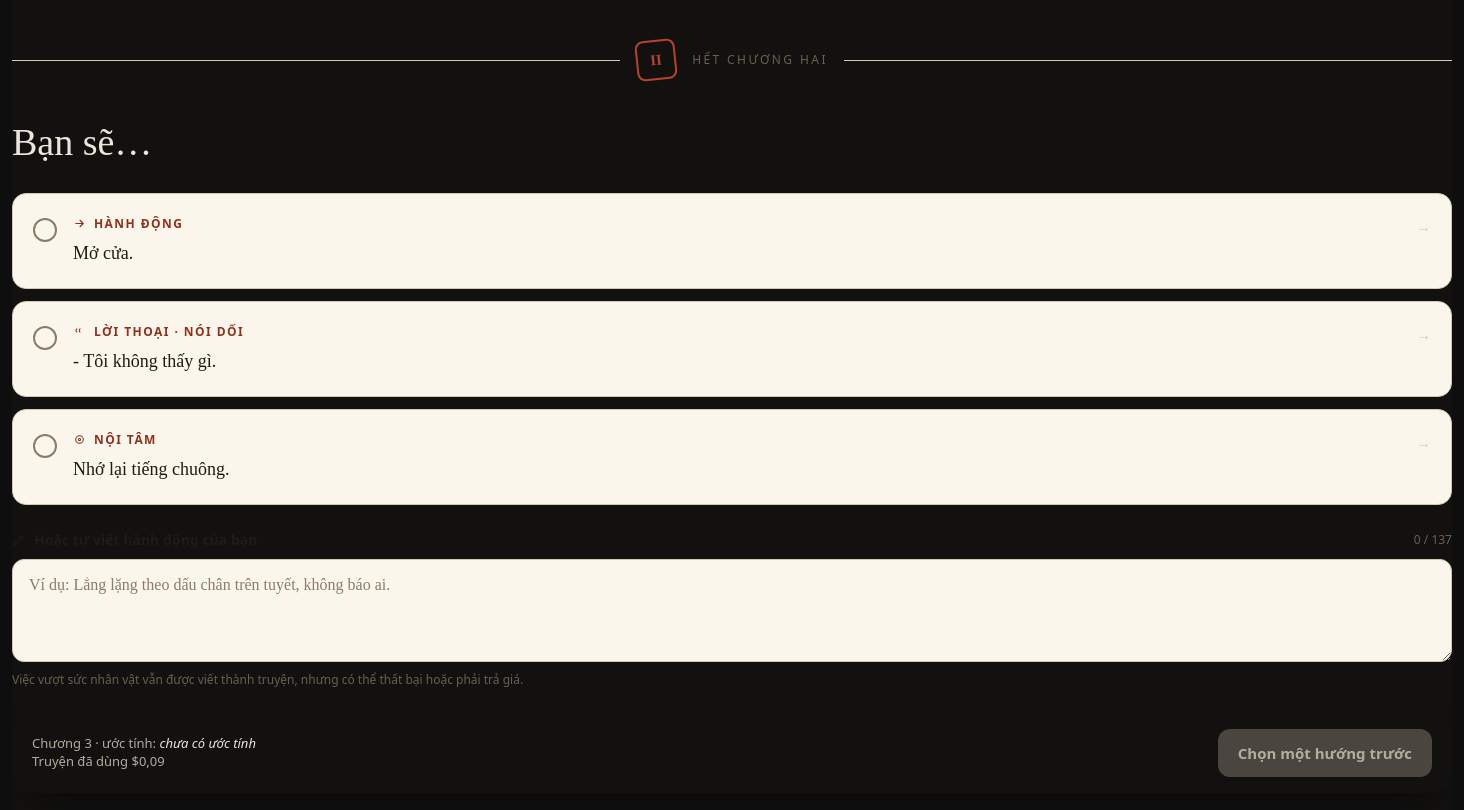
Test case: giới hạn và trần đến từ /config/public, không tự đặt số › ô tự viết đếm theo custom_action_max_chars của config
Check: the text "0 / 137" is shown, box [1414,530,1452,550]
Type "Tôi chạy" into the text box labelled "Hoặc tự viết hành động của bạn". click: (732, 610)
box: [12,559,1452,662]
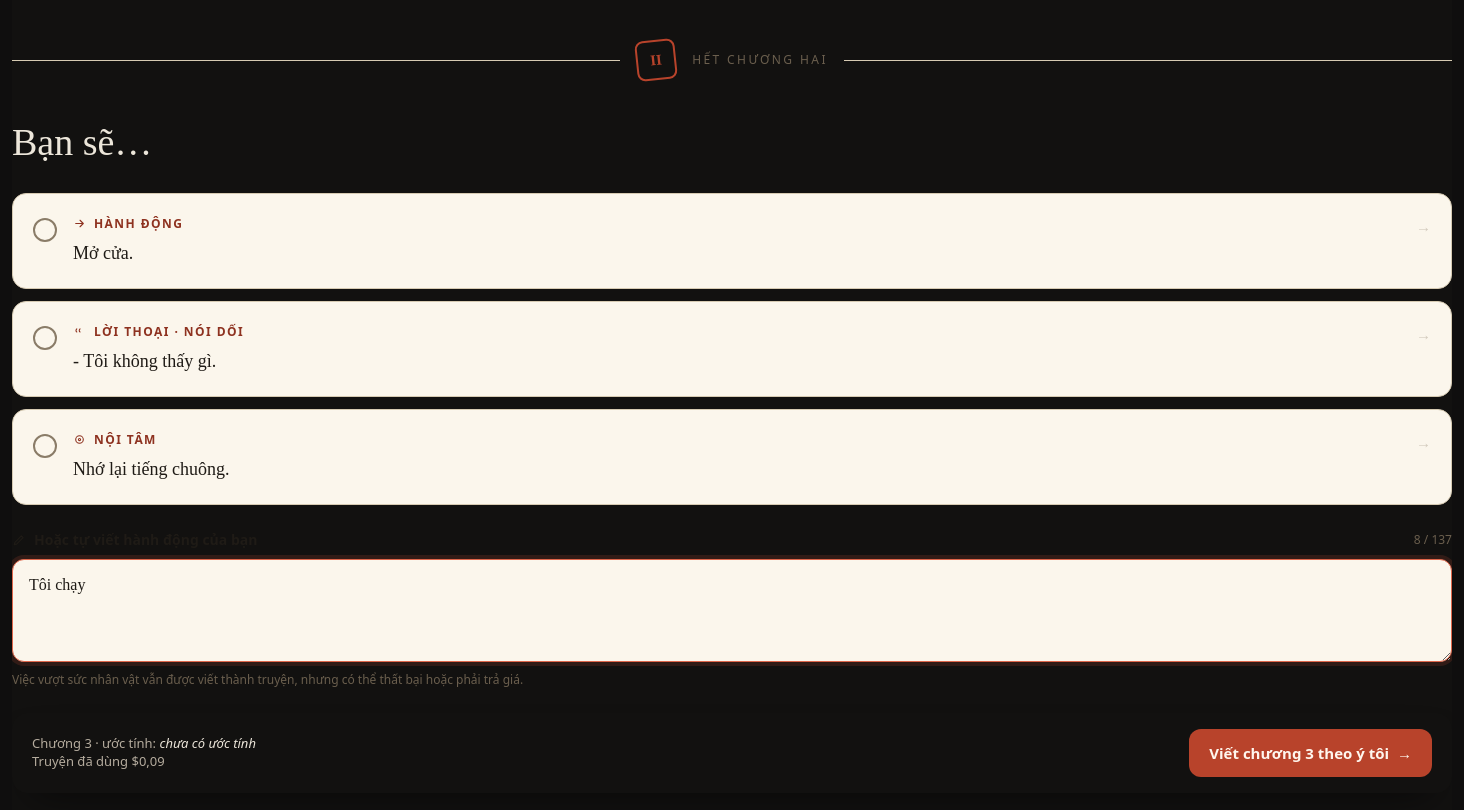
Check: the text "8 / 137" is shown, box [1414,530,1452,550]
